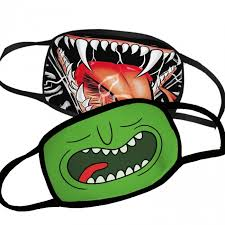mask: (3, 15, 225, 217)
